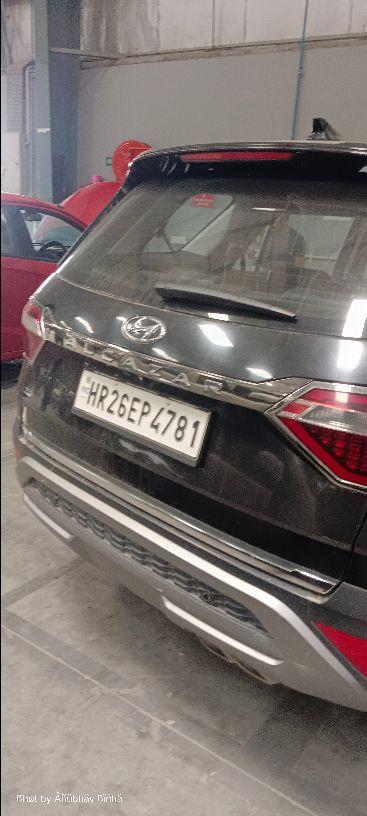license_plate: (70, 365, 212, 468)
